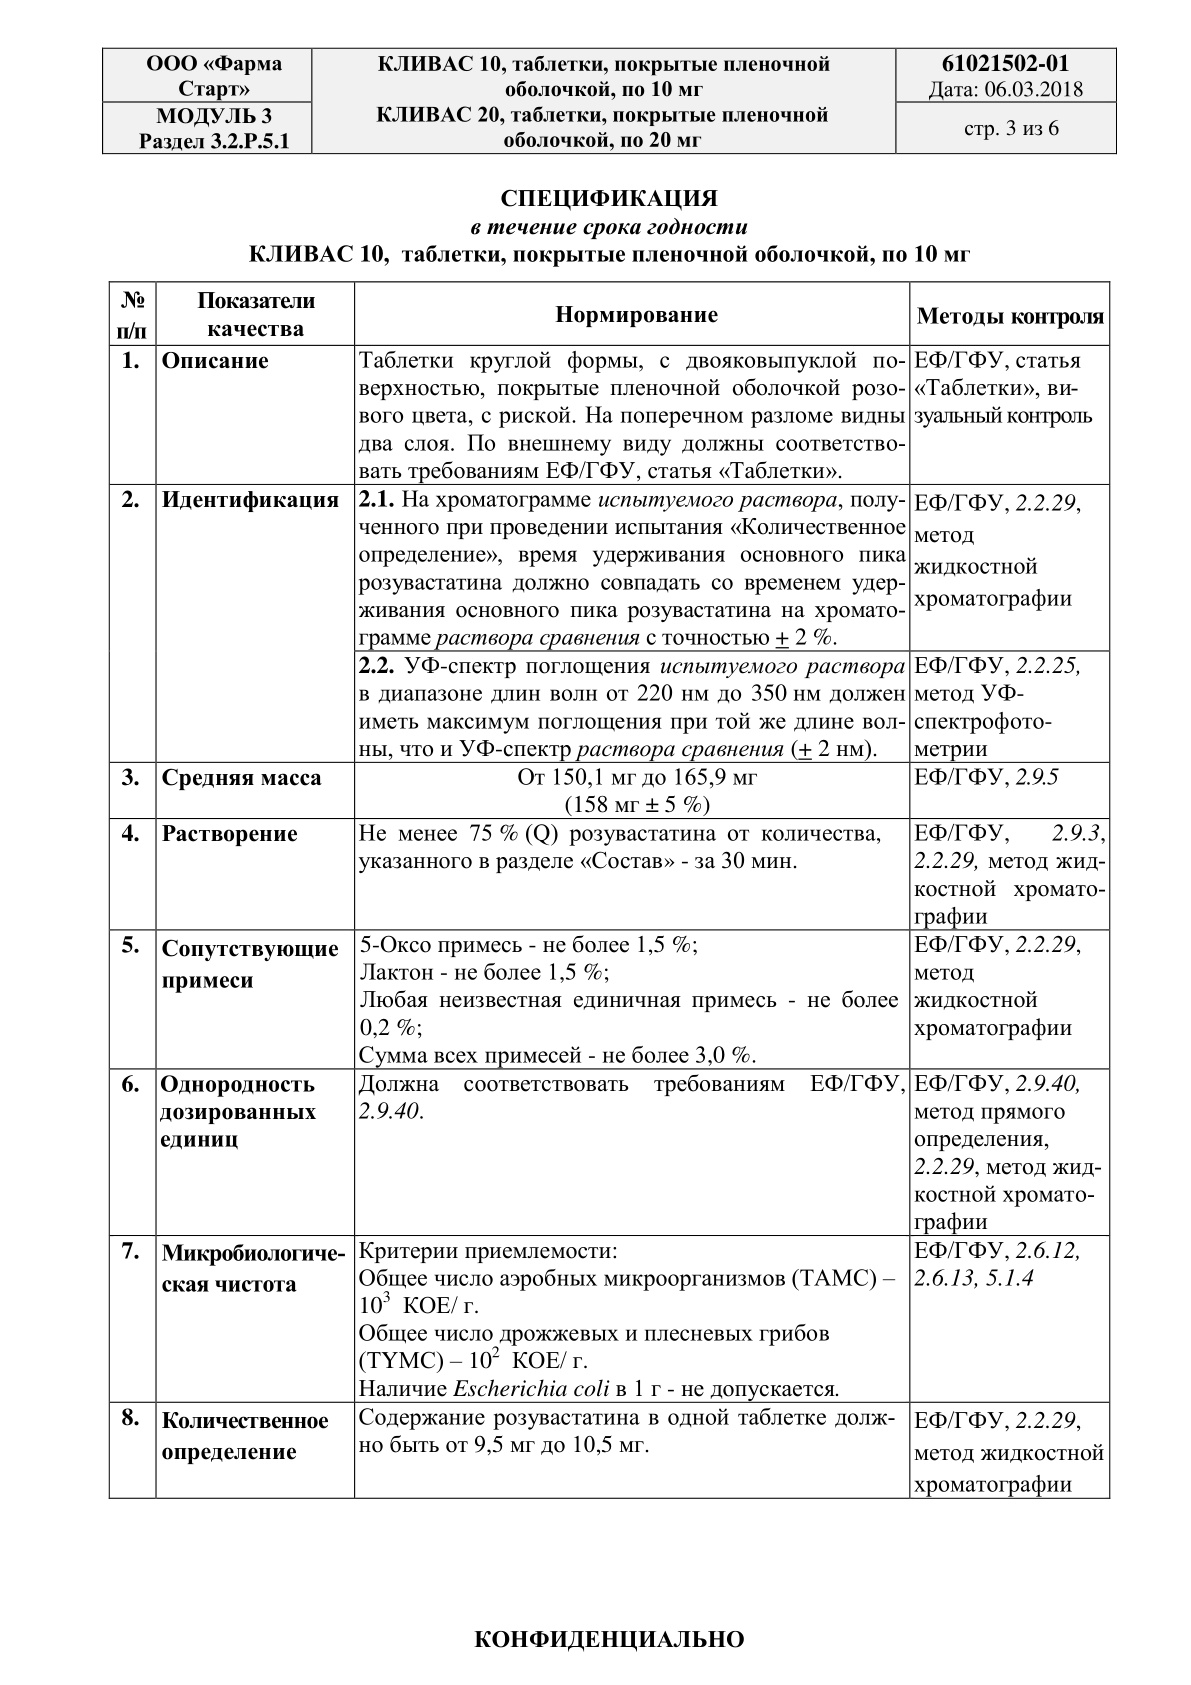full_lined: (107, 280, 1111, 1501)
merged_cells: (101, 46, 1118, 153)
